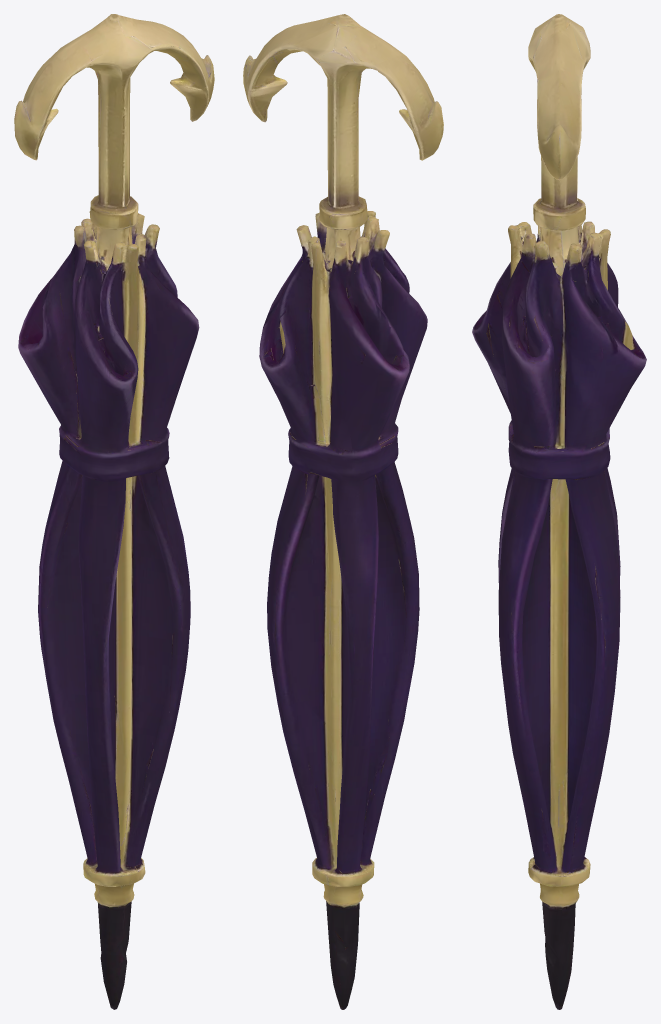
File: captain_umbrella.glb
3 views of the same model, side by side, from view 1: azimuth 30°, elevation 25°; view 2: azimuth 150°, elevation 25°; view 3: azimuth 270°, elevation 25° (orthographic).
Visible parts, largest first — view 1: Mesh1.0; view 2: Mesh1.0; view 3: Mesh1.0.
Boxes of the visible parts, left/top/right/bottom form: Mesh1.0: left=14, top=14, right=214, bottom=1009; Mesh1.0: left=243, top=14, right=443, bottom=1009; Mesh1.0: left=472, top=14, right=646, bottom=1009.
Bounding box in the file's own units: 0.3989 × 1.9 × 0.303.
1 material, 1 textured.
